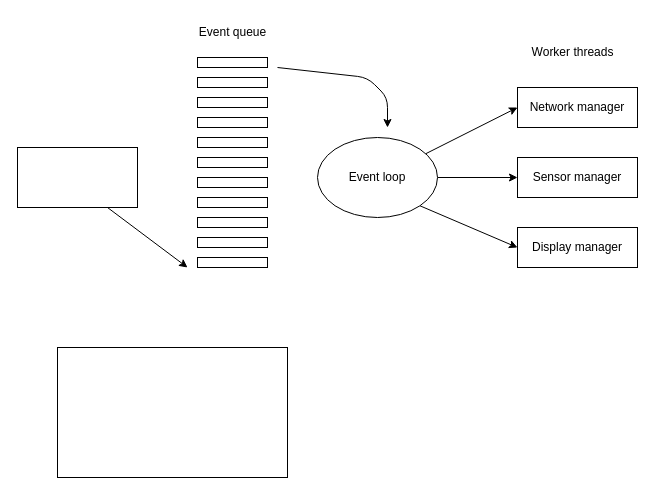
This 655x495 diagram has some shape labels left out. Here are the shapes that lost their labels. From the top down, the centre of each, then its label:
At pixel 77 177: "service".
At pixel 172 412: "Speech system".
